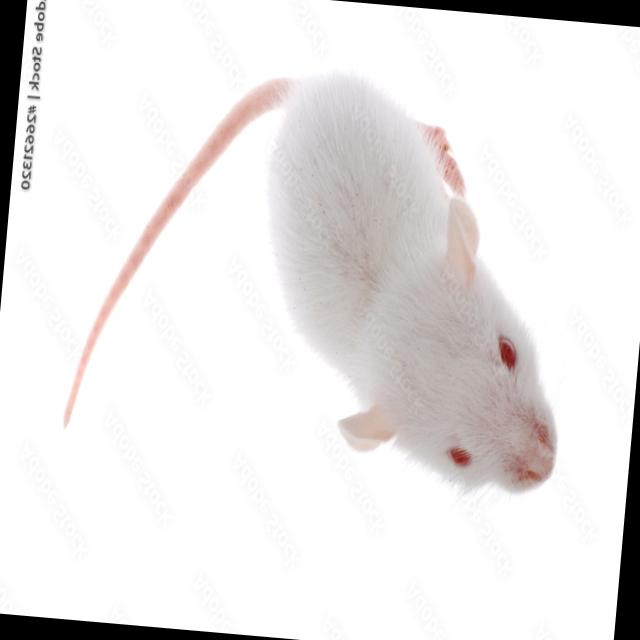rodents: (226, 59, 592, 512)
